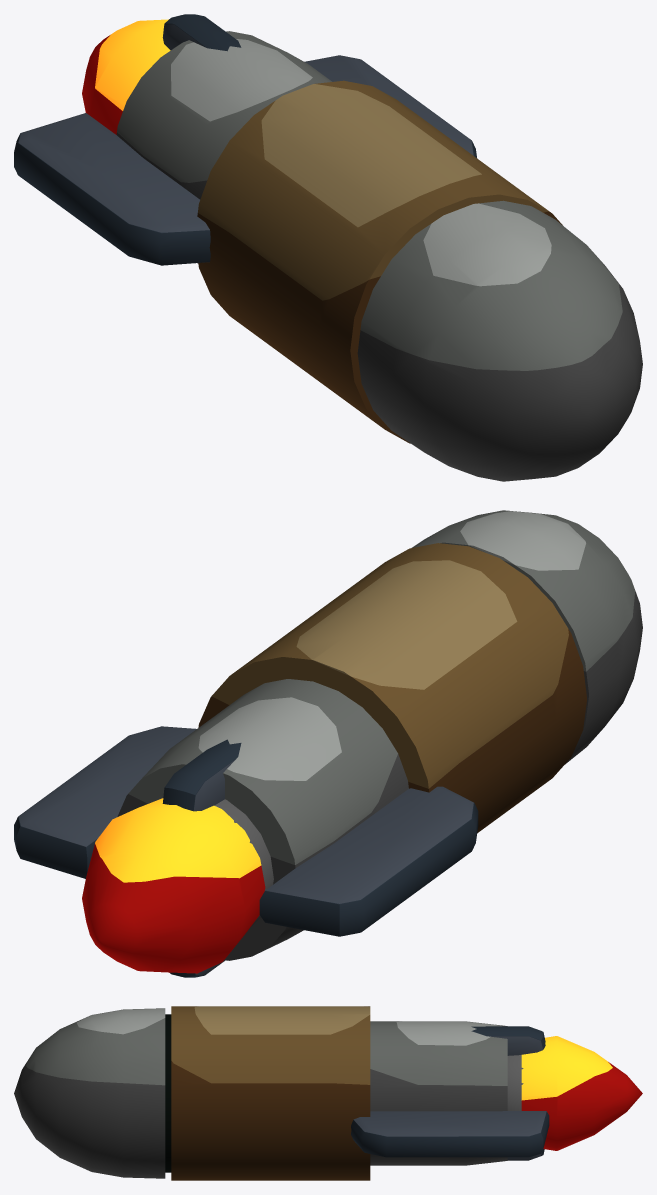
File: slot_rocket_76.glb
3 renders of one model, top to bottom at view 1: azimuth 30°, elevation 25°; view 2: azimuth 150°, elevation 25°; view 3: azimuth 270°, elevation 25°, orthographic. The views are drawn at different scales.
Visible parts, largest first — view 1: slot_rocket_76; view 2: slot_rocket_76; view 3: slot_rocket_76.
Part boxes in pixels (x1=…): slot_rocket_76: x1=14, y1=14, x2=642, y2=481; slot_rocket_76: x1=14, y1=510, x2=642, y2=977; slot_rocket_76: x1=14, y1=1006, x2=642, y2=1180.
Size of the model in its own units: 6.5 by 4.4 by 15.8.
